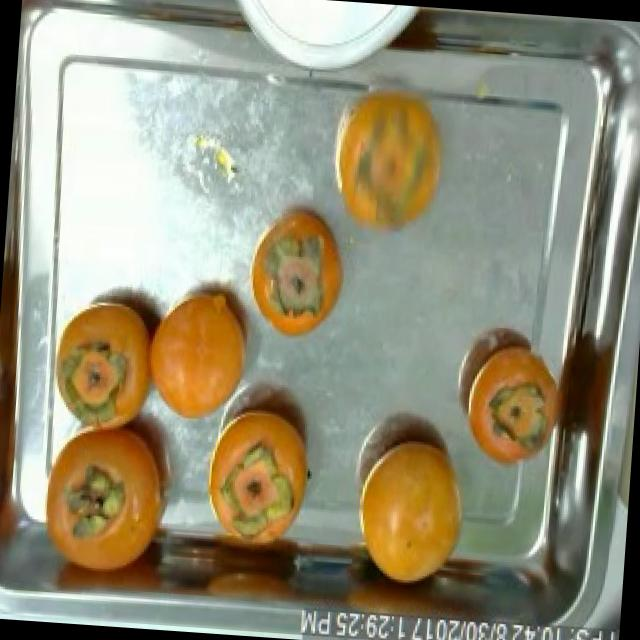Fruit: (36, 386, 192, 603), (335, 419, 485, 604), (312, 75, 461, 252), (194, 362, 328, 556), (132, 265, 265, 437), (238, 188, 359, 352), (444, 312, 560, 483)
